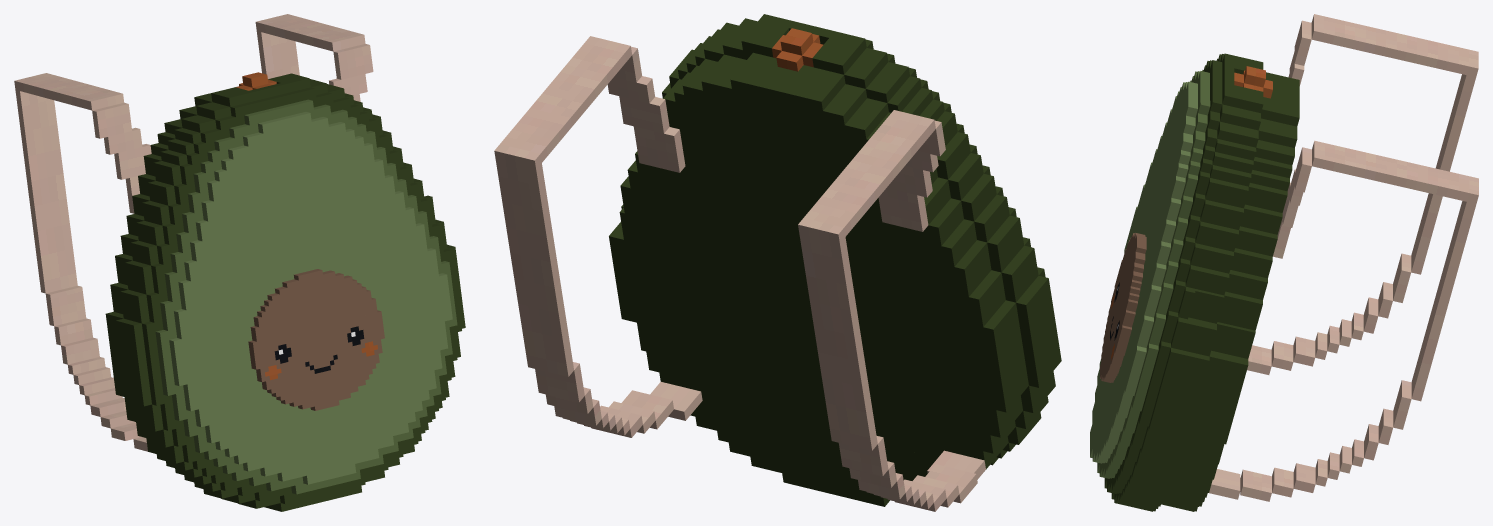
File: avocado.glb
3 renders of one model, left to right at view 1: azimuth 30°, elevation 25°; view 2: azimuth 150°, elevation 25°; view 3: azimuth 270°, elevation 25°, orthographic. The views are drawn at different scales.
Parts seen in each view (by area): view 1: Object_2; view 2: Object_2; view 3: Object_2.
Boxes of the visible parts, box(x1,y1,x2,y2) form: Object_2: box(14, 14, 465, 511); Object_2: box(494, 14, 1061, 511); Object_2: box(1090, 14, 1478, 511).
Bounding box in the file's own units: 40 × 46.06 × 38.96.
1 material, 1 textured.
